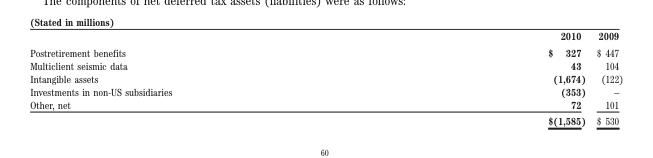table: (29, 29, 622, 126)
table column: (29, 29, 359, 126), (359, 29, 590, 126), (590, 29, 622, 126)
table column header: (29, 29, 622, 43)
table row: (29, 43, 622, 58), (29, 97, 622, 112), (29, 29, 622, 43), (29, 112, 622, 126), (29, 58, 622, 71), (29, 71, 622, 84), (29, 84, 622, 97)
